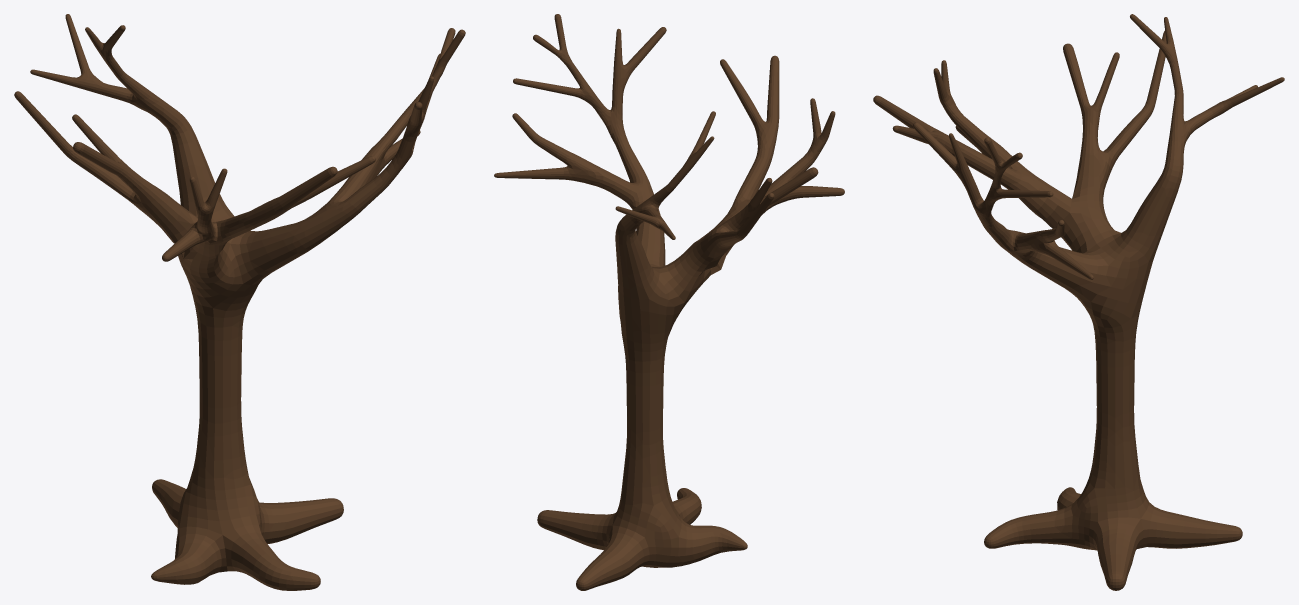
File: TreeMP.fbx
3 views of the same model, side by side, from view 1: azimuth 30°, elevation 25°; view 2: azimuth 150°, elevation 25°; view 3: azimuth 270°, elevation 25° (orthographic). The views are drawn at different scales.
Visible parts, largest first — view 1: Plane; view 2: Plane; view 3: Plane.
Boxes of the visible parts, x1,y1,x2,y2 form: Plane: [14, 14, 465, 590]; Plane: [494, 14, 844, 590]; Plane: [873, 14, 1284, 590].
Size of the model in its own units: 10.57 by 15.21 by 11.37.
